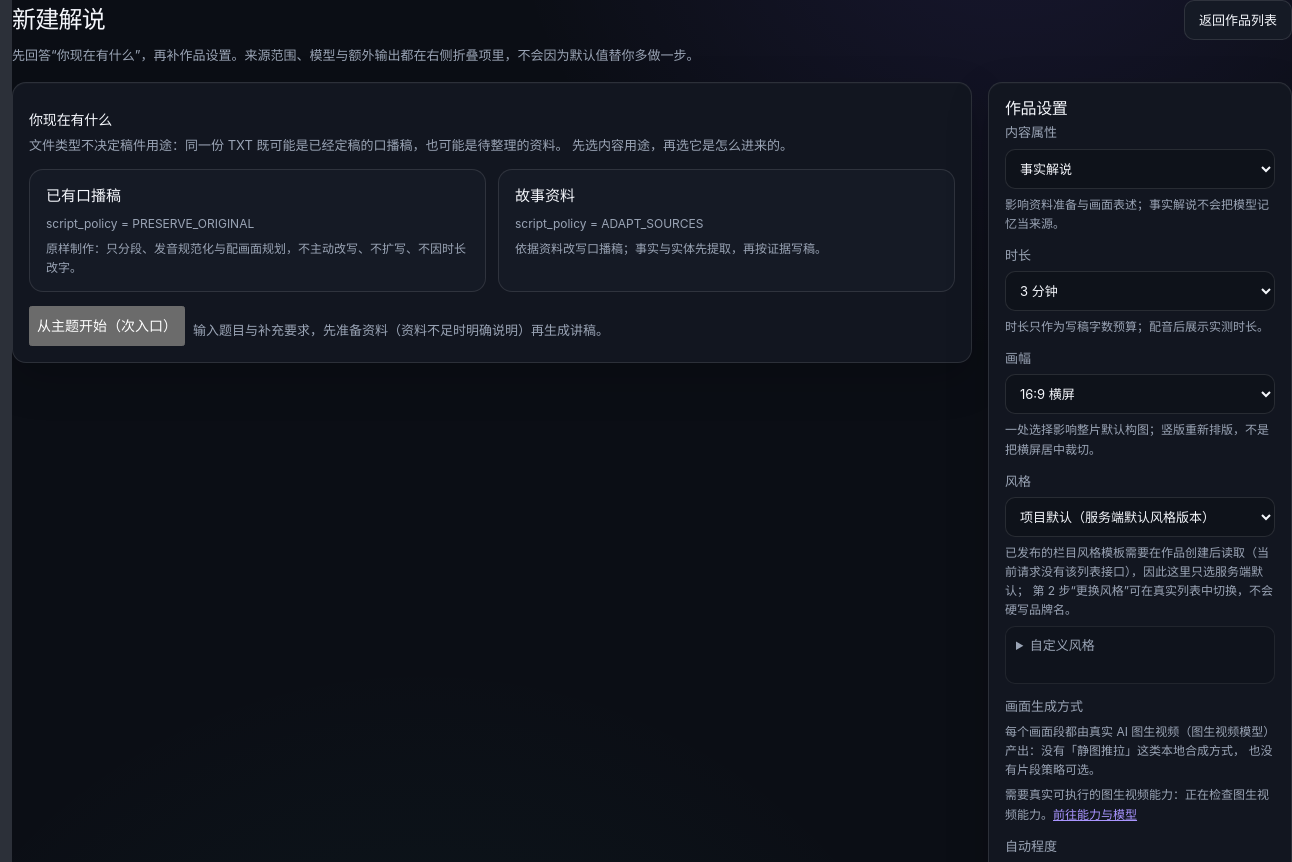
Test case: explainer default outputs (V03) › never exposes a target-duration control for 已有口播稿
Click the button "已有口播稿" at [84, 196], box left=29, top=169, right=486, bottom=292
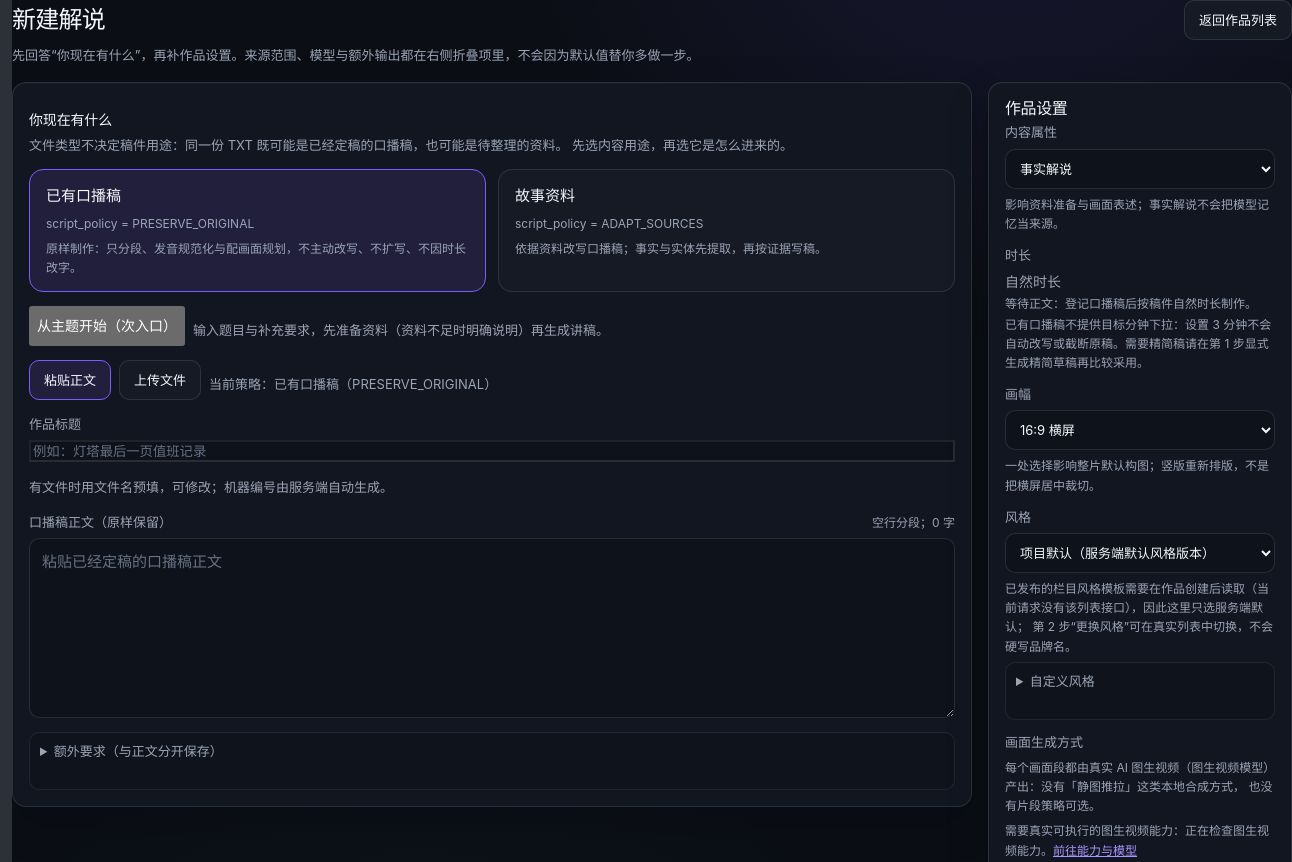
Check: the text "自然时长" is shown, box left=1005, top=273, right=1061, bottom=290
故事资料 keeps the real 3 / 5 / 10 分钟 presets.
Click the button "故事资料" at [545, 196], box left=498, top=169, right=955, bottom=292
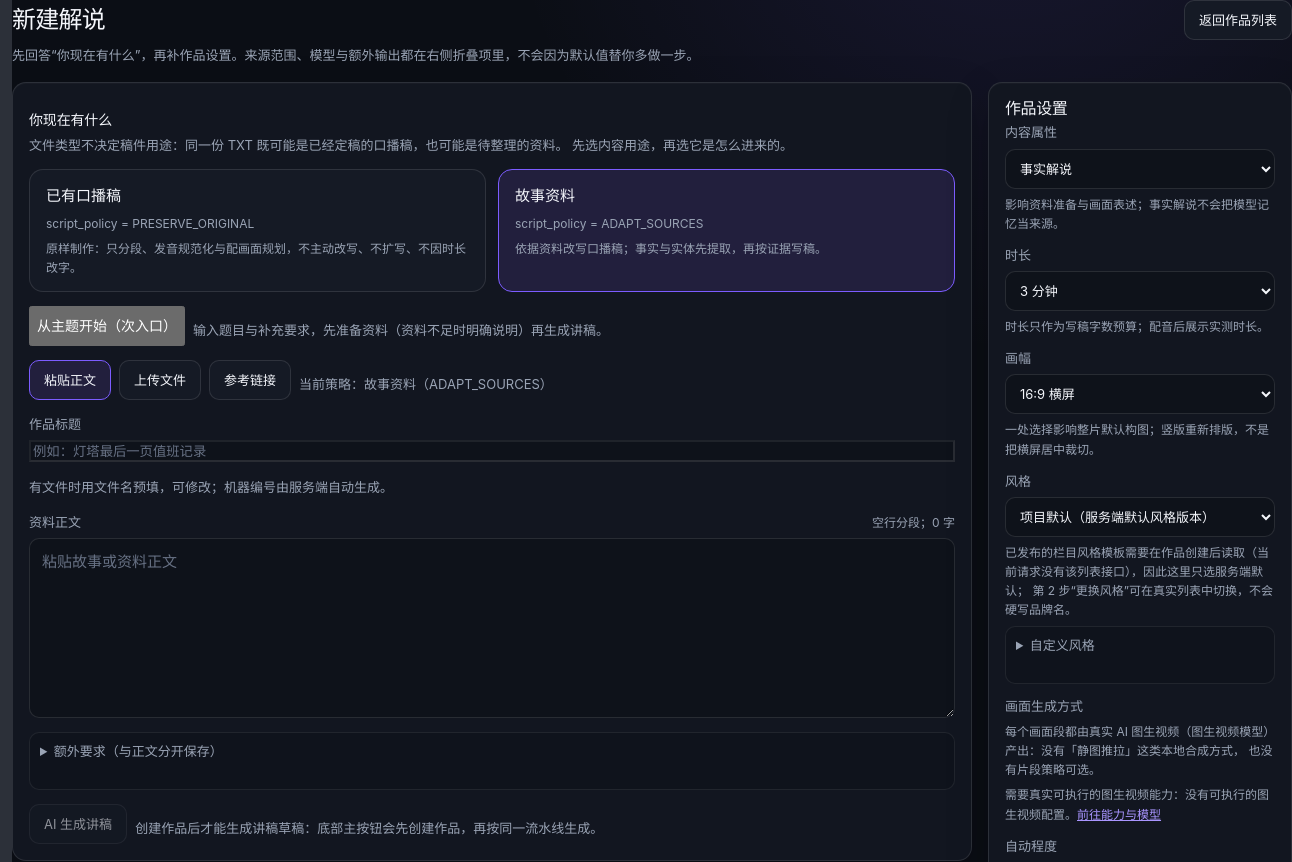
Check: the dropdown named "时长" is shown, box left=1005, top=271, right=1275, bottom=311
